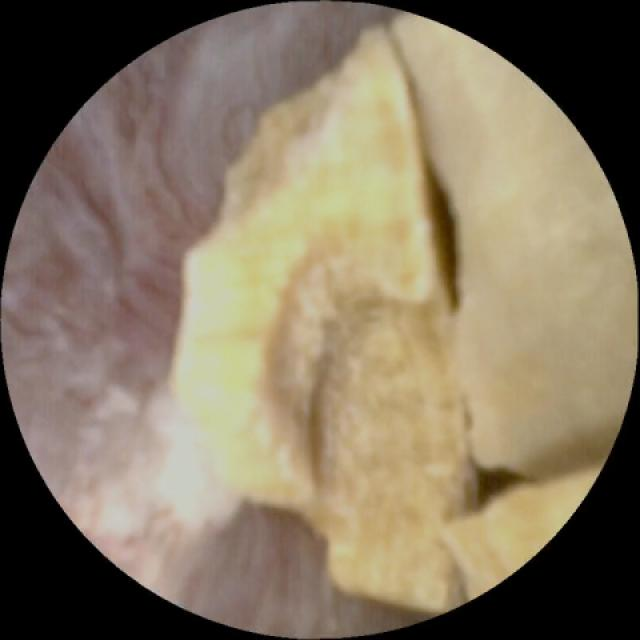stone: (176, 19, 629, 607)
